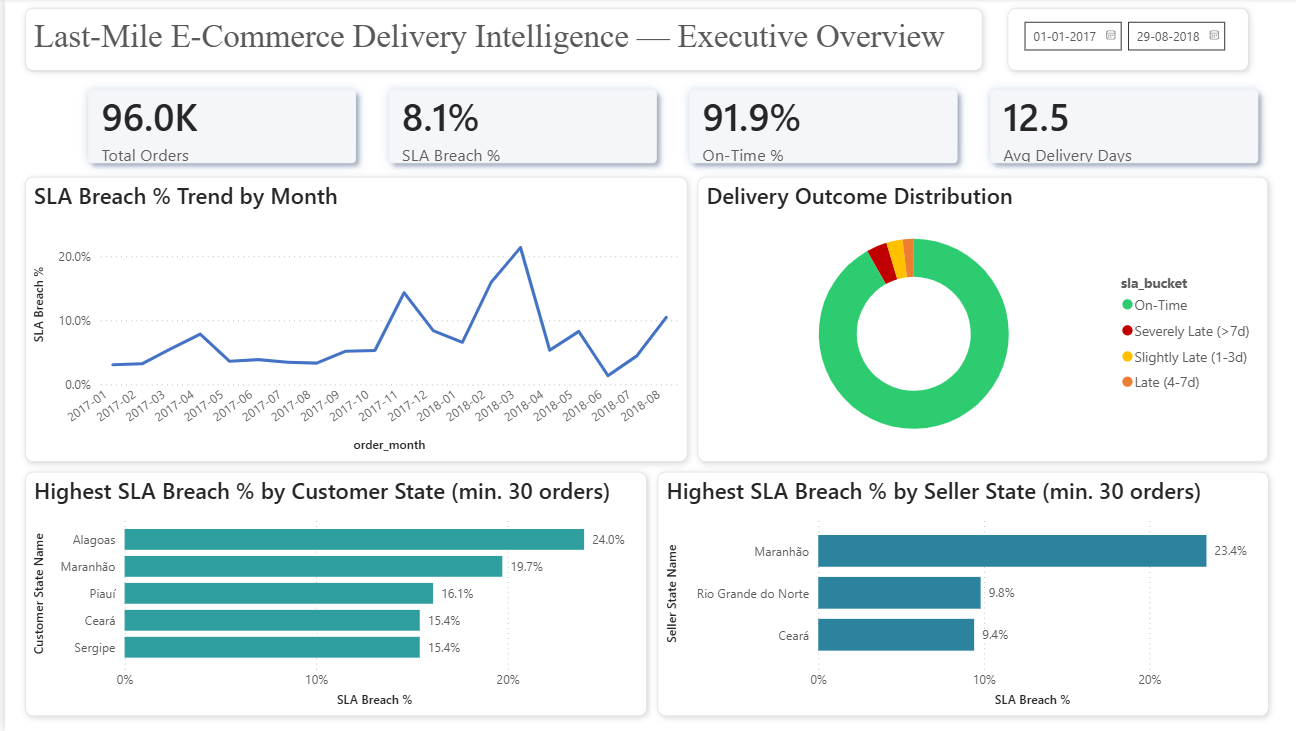

What the dashboard file says about the page in this screenshot:
{"tool":"powerbi","page":{"name":"Page 1","canvas":[1280,720],"ordinal":0},"visuals":[{"type":"cardVisual","fields":{"Data":["deliveries.Total Orders","deliveries.SLA Breach %","deliveries.On-Time %","deliveries.Avg Delivery Days"]},"box":[69.8,35.6,1210.2,136.8],"z":0},{"type":"lineChart","title":"SLA Breach % Trend by Month","fields":{"Category":["deliveries.order_month"],"Y":["deliveries.SLA Breach %"]},"box":[20,175,650,280],"z":1000},{"type":"donutChart","title":"Delivery Outcome Distribution","fields":{"Category":["deliveries.sla_bucket"],"Y":["deliveries.Total Orders"]},"box":[680,175,560,280],"z":2000},{"type":"clusteredBarChart","title":"Highest SLA Breach % by Customer State (min. 30 orders)","fields":{"Category":["deliveries.Customer State Name"],"Y":["deliveries.SLA Breach %"]},"box":[20,465,610,240],"z":3000},{"type":"clusteredBarChart","title":"Highest SLA Breach % by Seller State (min. 30 orders)","fields":{"Y":["deliveries.SLA Breach %"],"Category":["deliveries.Seller State Name"]},"box":[640,465,600,240],"z":4000},{"type":"textbox","box":[20,10,940.8,49.9],"z":5000},{"type":"slicer","title":"Date Slicer","fields":{"Values":["deliveries.order_date"]},"box":[992.1,0,235.2,59.9],"z":6000}]}

Visuals, with their boxes in screenshot pixels (x1, y1, x2, y2), scaled from the page's 1280x720 canvas onto the 1296x731 screenshot:
cardVisual - deliveries.Total Orders x deliveries.SLA Breach %: [left=71, top=36, right=1295, bottom=175]
"SLA Breach % Trend by Month" lineChart: [left=20, top=178, right=678, bottom=462]
"Delivery Outcome Distribution" donutChart: [left=688, top=178, right=1256, bottom=462]
"Highest SLA Breach % by Customer State (min. 30 orders)" clusteredBarChart: [left=20, top=472, right=638, bottom=716]
"Highest SLA Breach % by Seller State (min. 30 orders)" clusteredBarChart: [left=648, top=472, right=1256, bottom=716]
textbox: [left=20, top=10, right=973, bottom=61]
"Date Slicer" slicer: [left=1005, top=0, right=1243, bottom=61]
